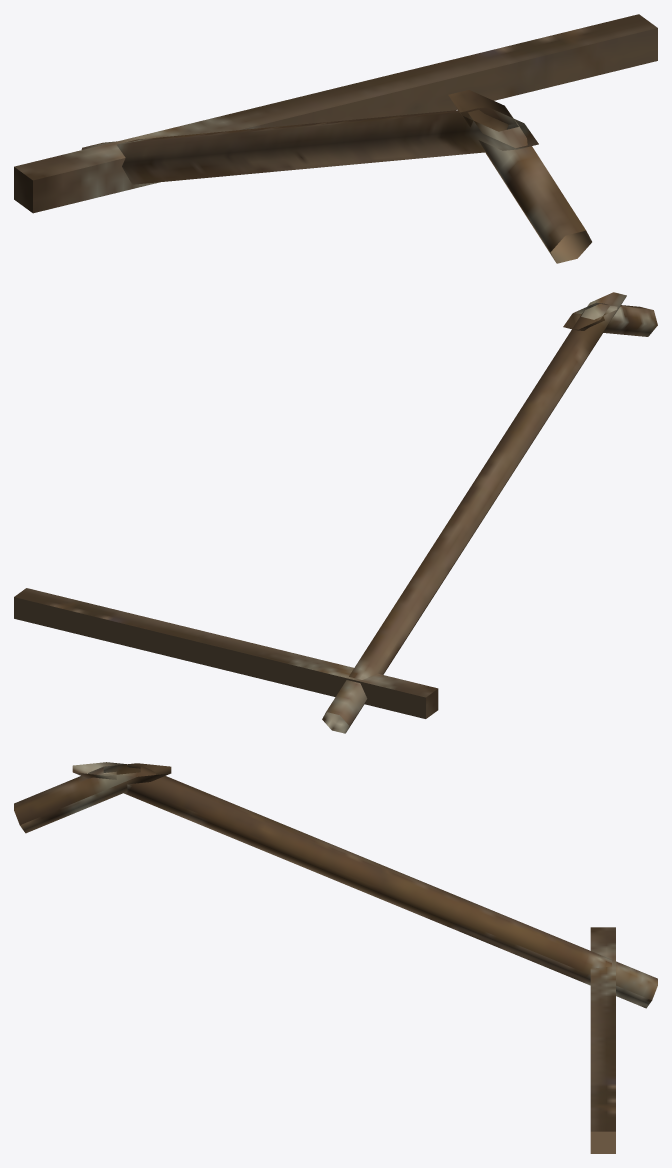
Rendered from section-1.obj.
The picture shows the model from 3 angles, top to bottom: view 1: azimuth 30°, elevation 25°; view 2: azimuth 150°, elevation 25°; view 3: azimuth 270°, elevation 25°; orthographic projection. The views are drawn at different scales.
Size of the model in its own units: 1.13 by 0.6084 by 1.5.
Materials: 1 (1 with a texture image).
